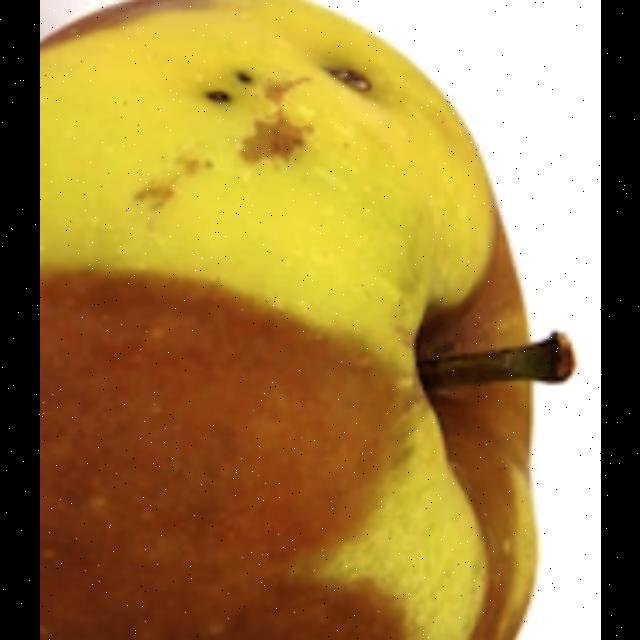Apel Tidak Segar: (39, 0, 526, 640)
